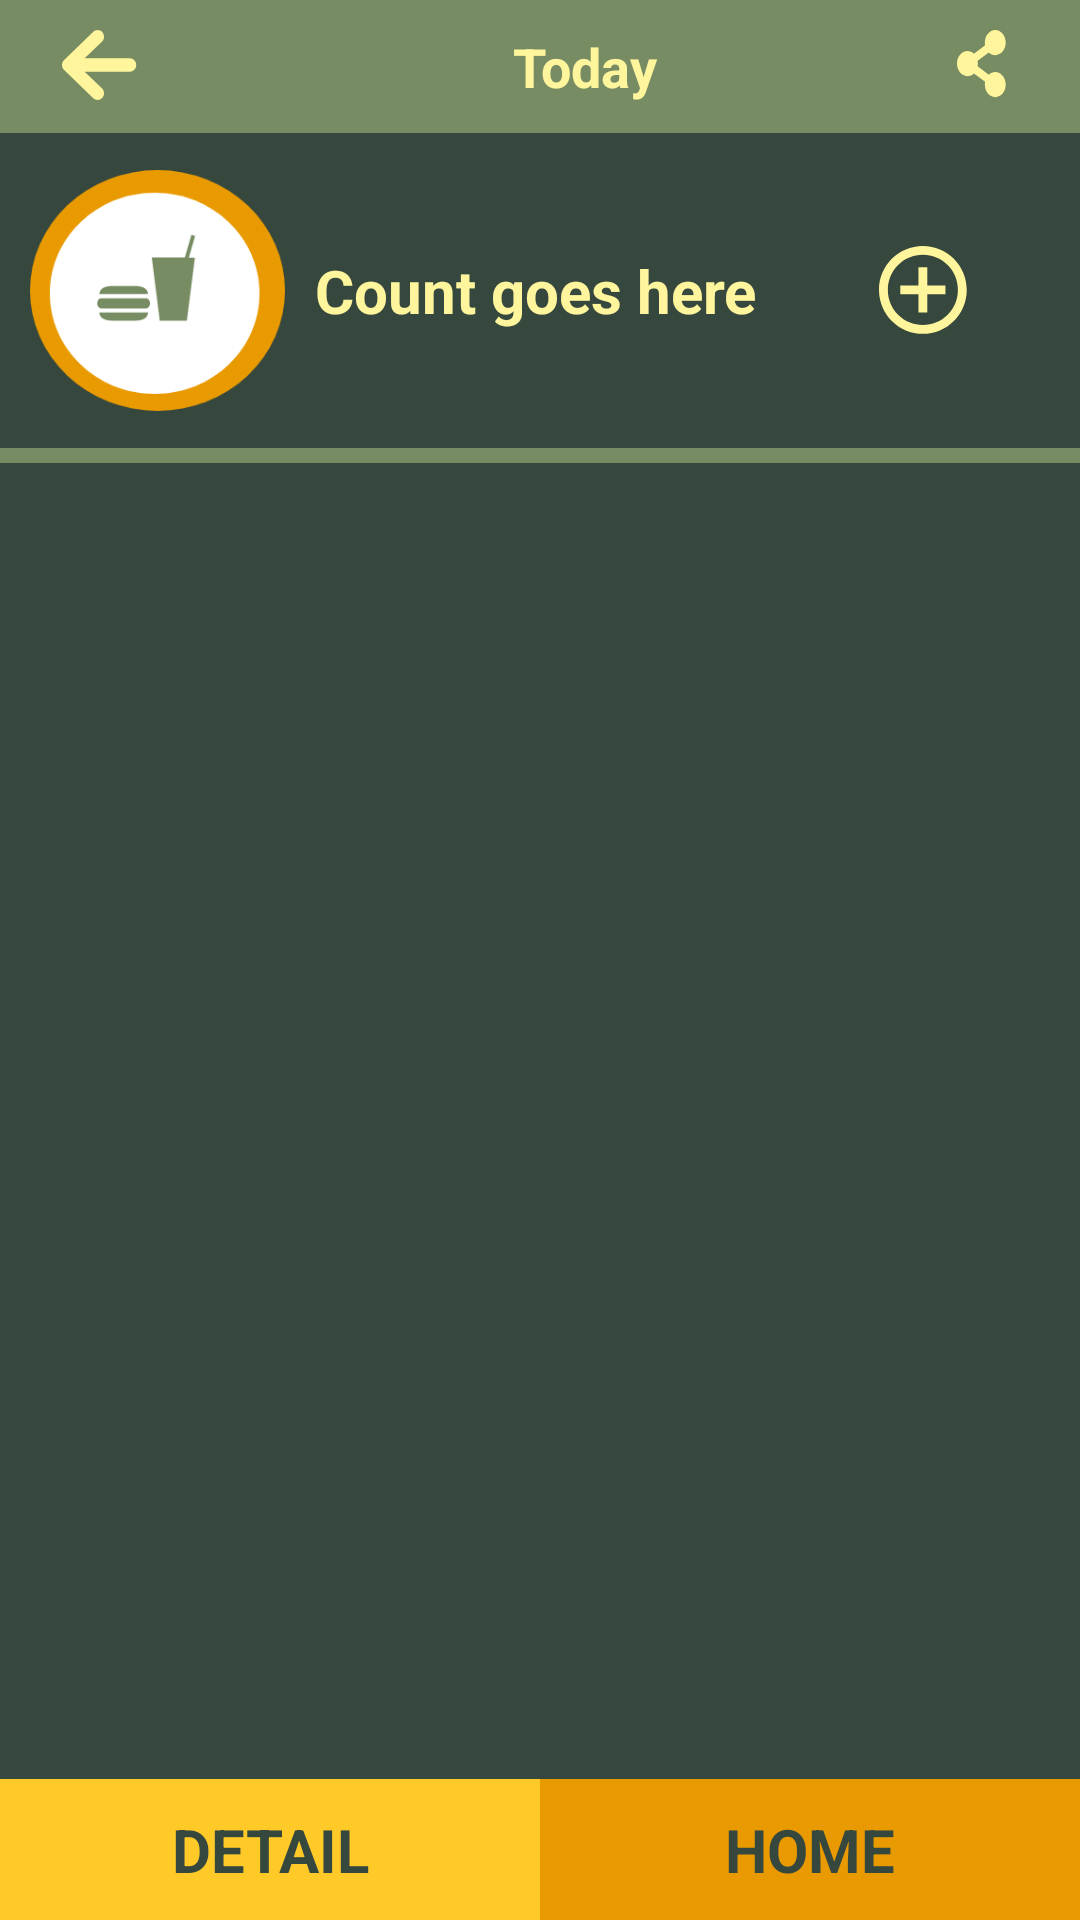

Screen size 1080w x 1920h. Icon name, then its center in pixels as (x=x, y=y):
add: (x=923, y=290)
arrow: (x=99, y=65)
nutrition circle: (x=157, y=290)
share: (x=981, y=64)
